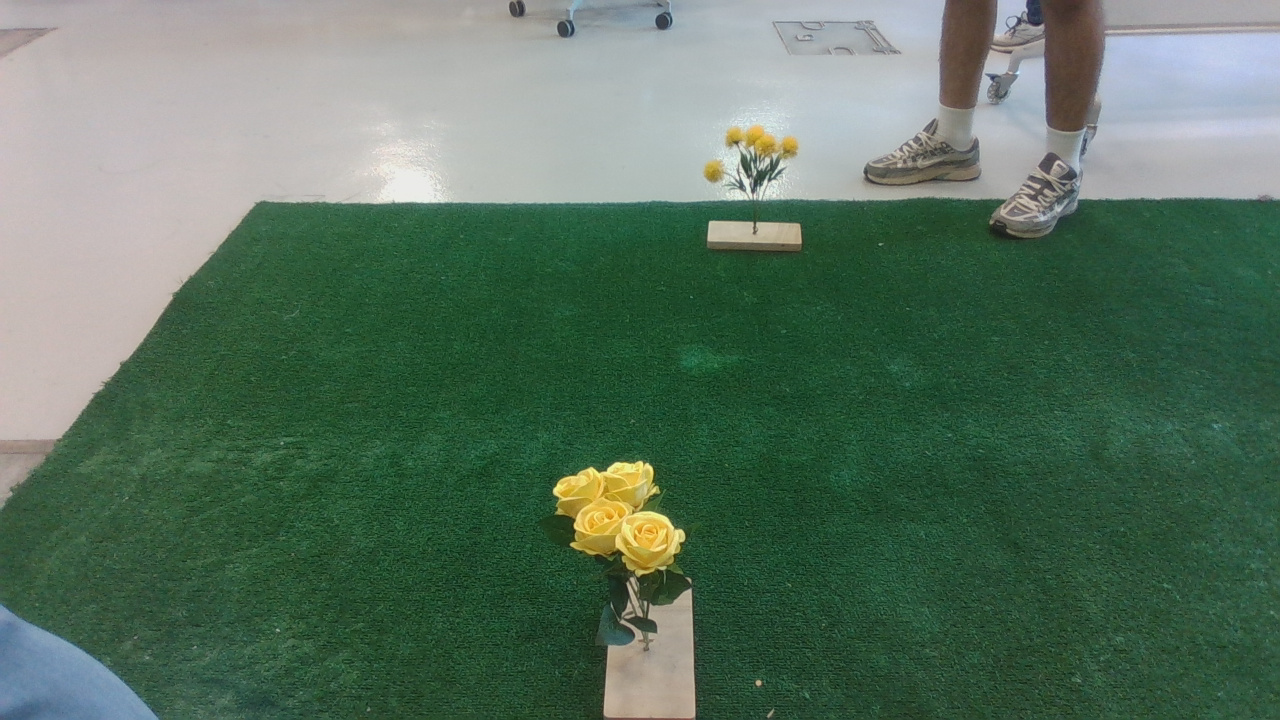dandelion: (695, 130, 815, 202)
rose: (522, 460, 717, 619)
